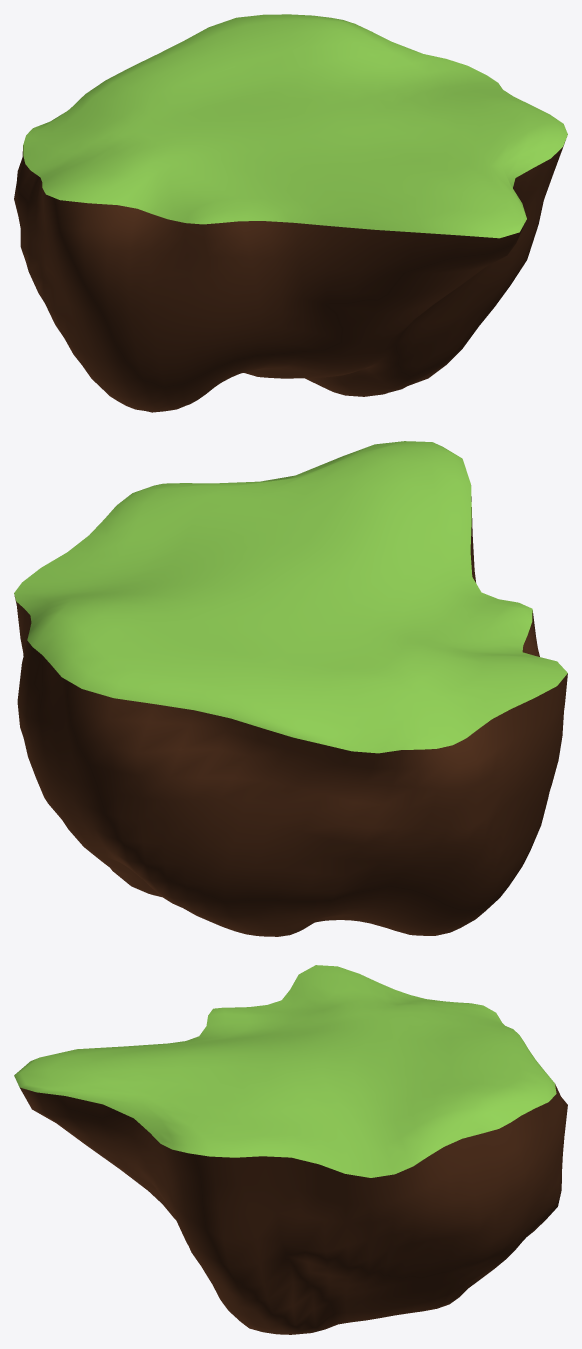
The model's file is Island2.fbx.
3 views of the same model, one above another, from view 1: azimuth 30°, elevation 25°; view 2: azimuth 150°, elevation 25°; view 3: azimuth 270°, elevation 25° (orthographic). The views are drawn at different scales.
Parts seen in each view (by area): view 1: Island1; view 2: Island1; view 3: Island1.
Boxes of the visible parts, x1,y1,x2,y2 form: Island1: [14, 14, 567, 412]; Island1: [14, 441, 567, 936]; Island1: [14, 965, 567, 1334].
Size of the model in its own units: 15.39 by 8.98 by 17.48.
